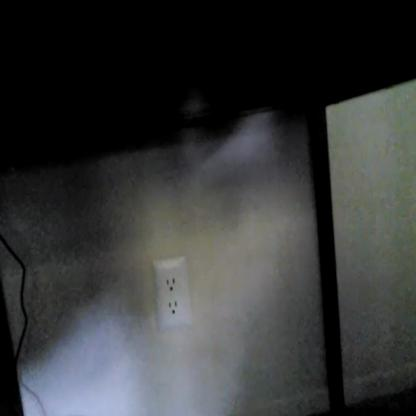OUTLET: (154, 257, 192, 325)
